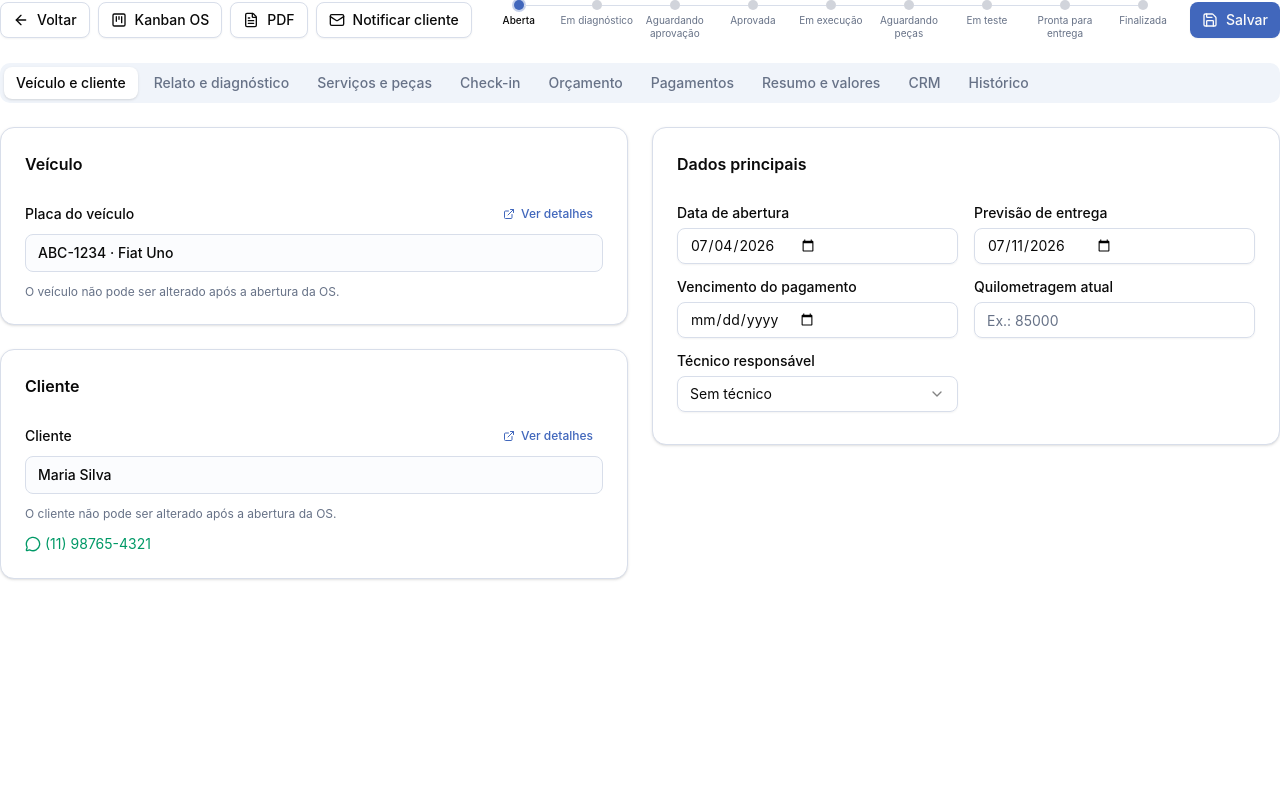
OrderForm › opens the vehicle details modal from 'Ver detalhes'
The width and height of the screenshot is (1280, 800).
Click the button "Ver detalhes" at (548, 214), box [493, 206, 603, 222]
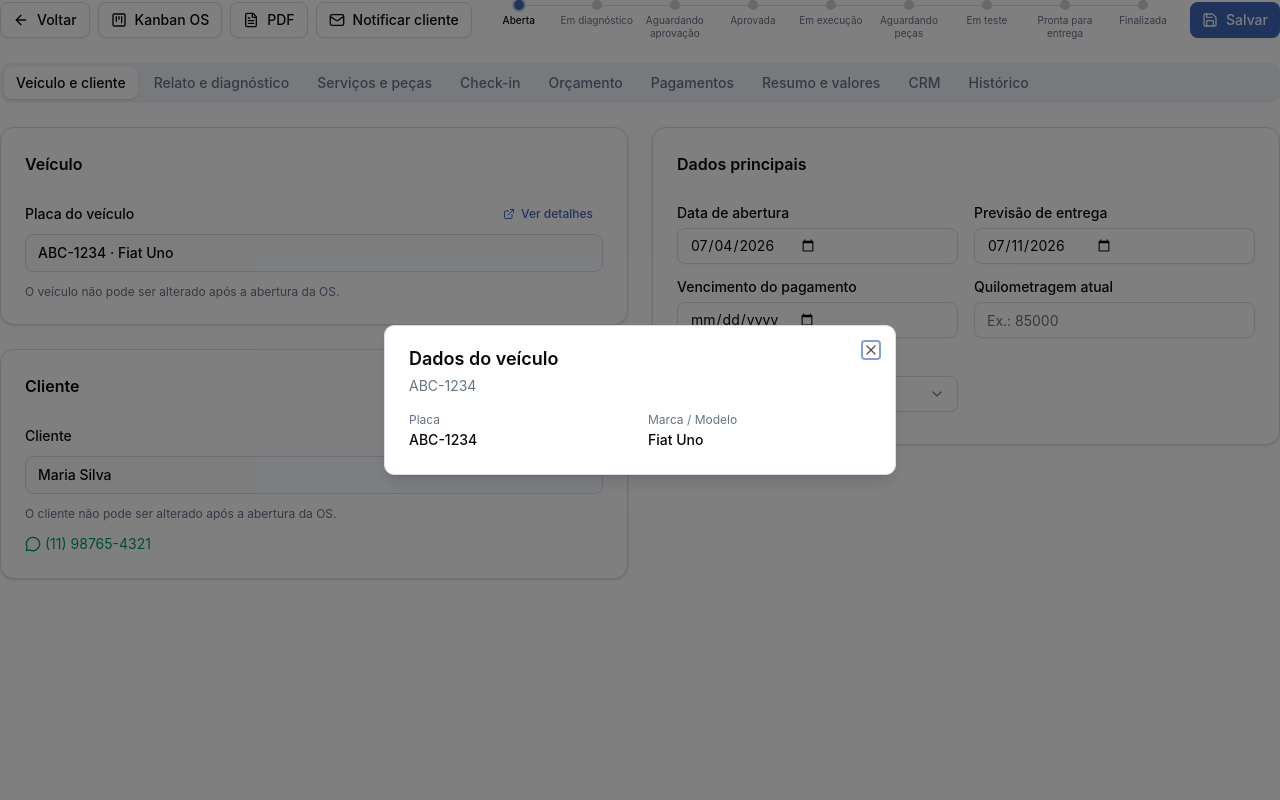
Now the heading "Dados do veículo" is shown, box [409, 348, 558, 369]
Now the text "Fiat Uno" is shown, box [648, 431, 704, 448]
